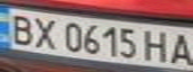0: (60, 19, 84, 53)
1: (100, 25, 121, 57)
5: (118, 25, 142, 60)
6: (81, 21, 103, 56)
A: (166, 30, 193, 66)
B: (3, 11, 39, 46)
H: (142, 27, 172, 63)
X: (27, 16, 60, 51)
